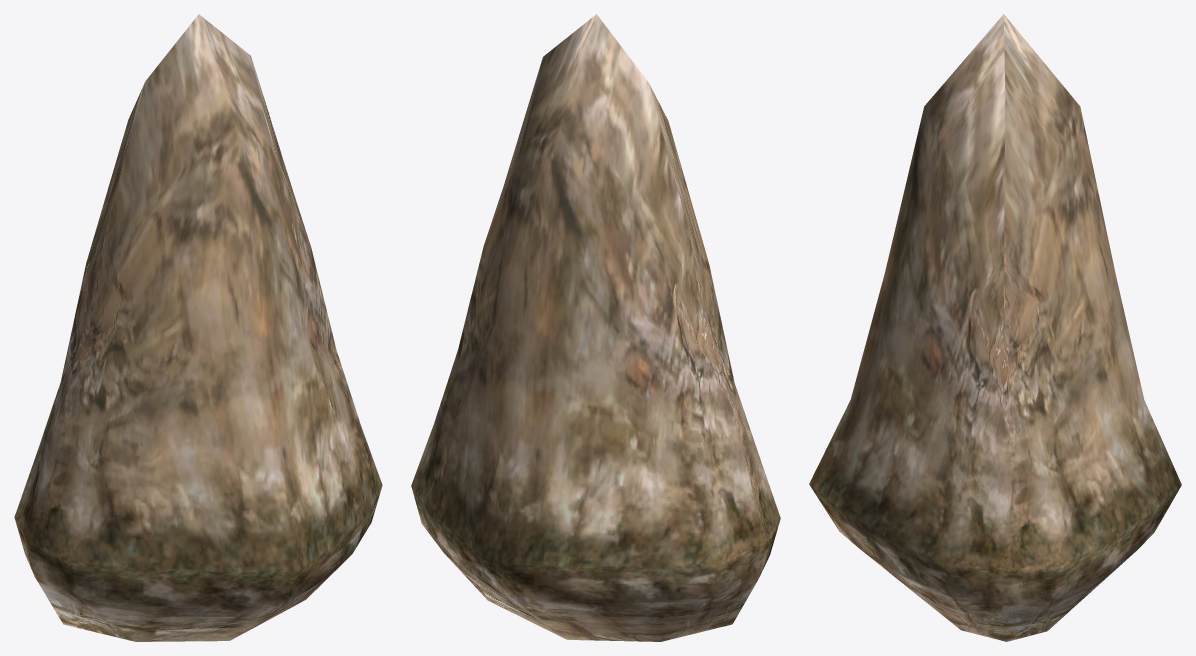
File: thm_all_cave_stalagmite_a1_l0.fbx
The picture shows the model from 3 angles, left to right: view 1: azimuth 30°, elevation 25°; view 2: azimuth 150°, elevation 25°; view 3: azimuth 270°, elevation 25°; orthographic projection. The views are drawn at different scales.
Parts seen in each view (by area): view 1: mesh_node; view 2: mesh_node; view 3: mesh_node.
Part boxes in pixels (left/top/right/bottom): mesh_node: left=14, top=14, right=382, bottom=641; mesh_node: left=411, top=14, right=780, bottom=641; mesh_node: left=809, top=14, right=1181, bottom=641.
Bounding box in the file's own units: 1.1 × 1.9 × 1.07.
